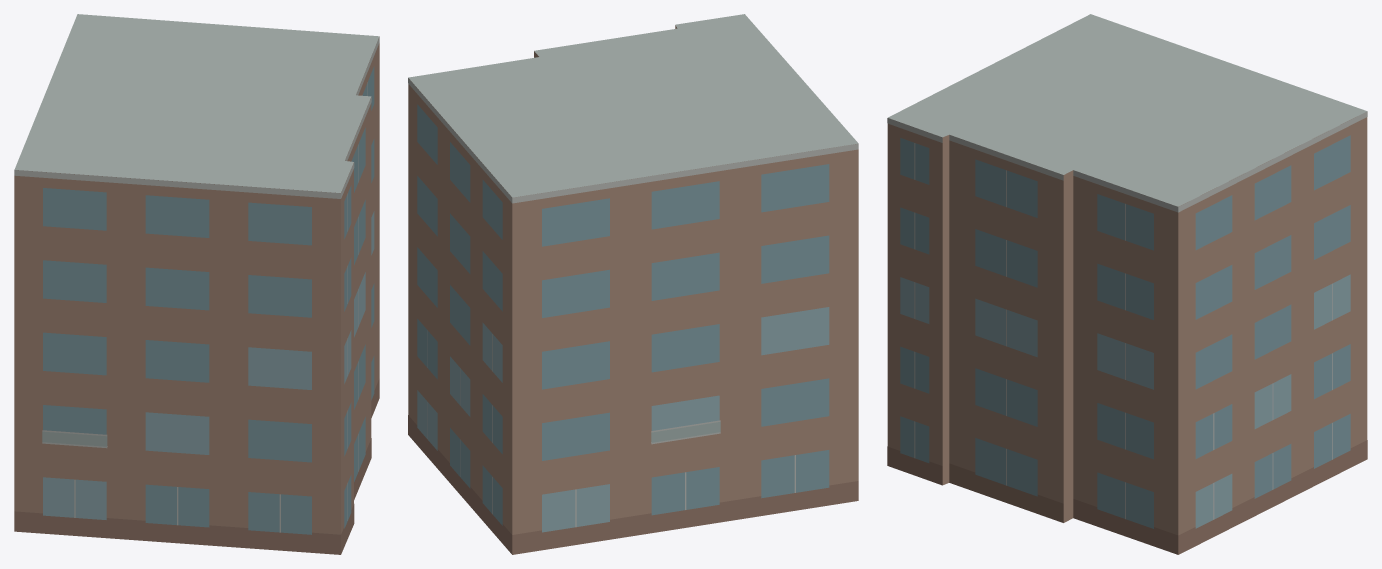
File: survey-upis-32886843.glb
3 renders of one model, left to right at view 1: azimuth 30°, elevation 25°; view 2: azimuth 150°, elevation 25°; view 3: azimuth 270°, elevation 25°, orthographic. The views are drawn at different scales.
Parts seen in each view (by area): view 1: survey-upis-32886843.tmp; view 2: survey-upis-32886843.tmp; view 3: survey-upis-32886843.tmp.
Part boxes in pixels (box(x1,y1,x2,y2)): survey-upis-32886843.tmp: box(14, 14, 379, 554); survey-upis-32886843.tmp: box(408, 14, 858, 554); survey-upis-32886843.tmp: box(887, 14, 1367, 554).
Size of the model in its own units: 17.68 by 14.88 by 18.6.
